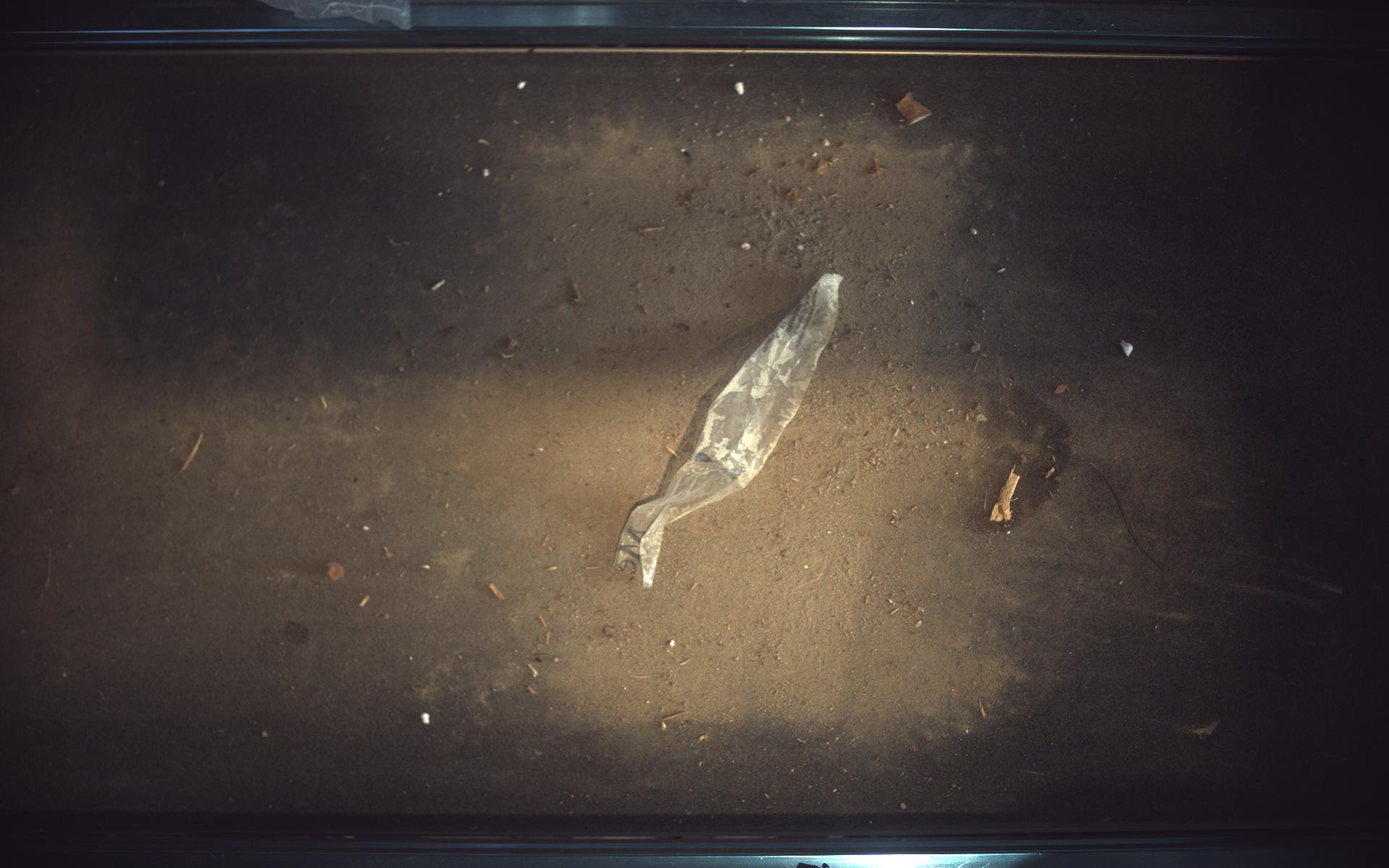general_w: (616, 274, 844, 589)
